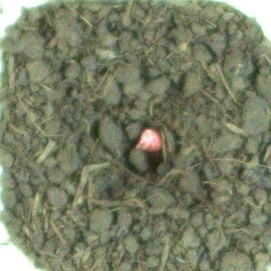chilli seed: (133, 127, 164, 154)
